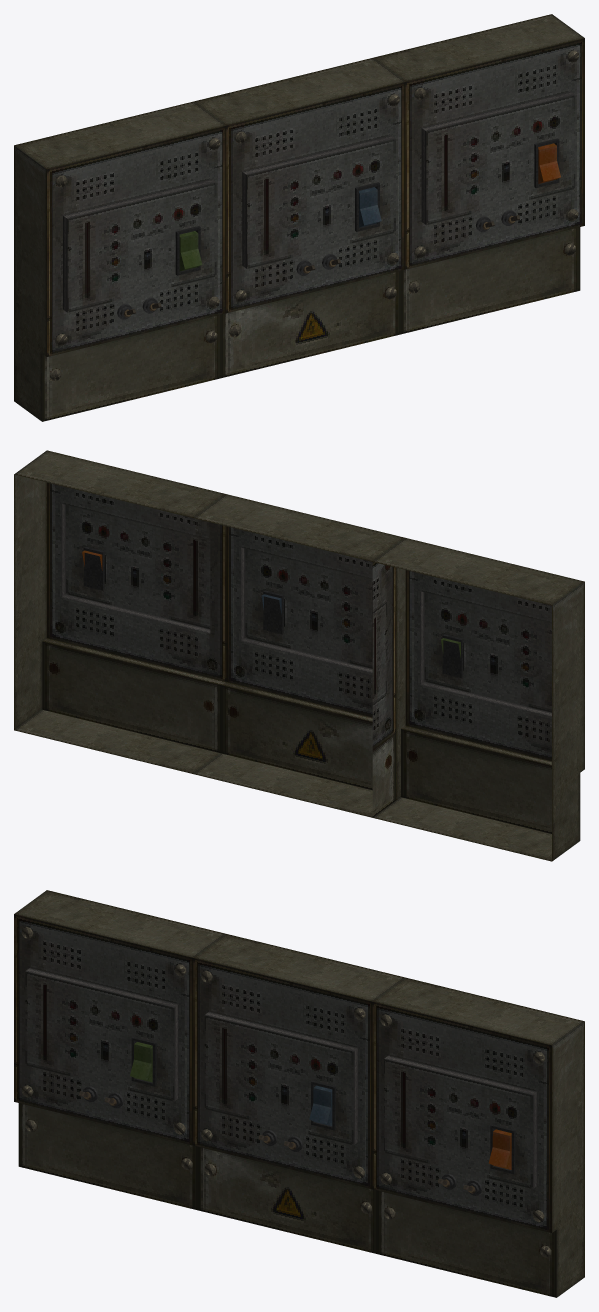
Rendered from panel_etx_2.glb.
3 views of the same model, one above another, from view 1: azimuth 30°, elevation 25°; view 2: azimuth 150°, elevation 25°; view 3: azimuth 330°, elevation 25° (orthographic).
Parts seen in each view (by area): view 1: panel_etx_2, panel_etx_1_button_child_1, panel_etx_1_button_child_3, panel_etx_1_button_child_2; view 2: panel_etx_2; view 3: panel_etx_2, panel_etx_1_button_child_2, panel_etx_1_button_child_3, panel_etx_1_button_child_1.
Part boxes in pixels (x1,y1,x2,y2): panel_etx_2: (14, 14, 584, 421); panel_etx_1_button_child_1: (179, 231, 202, 271); panel_etx_1_button_child_3: (538, 143, 560, 183); panel_etx_1_button_child_2: (359, 187, 381, 227); panel_etx_2: (14, 450, 584, 861); panel_etx_2: (14, 890, 584, 1297); panel_etx_1_button_child_2: (309, 1085, 332, 1126); panel_etx_1_button_child_3: (489, 1129, 511, 1169); panel_etx_1_button_child_1: (130, 1042, 152, 1082).
Bounding box in the file's own units: 1.32 × 0.6 × 0.1866.
2 materials, 2 textured.
